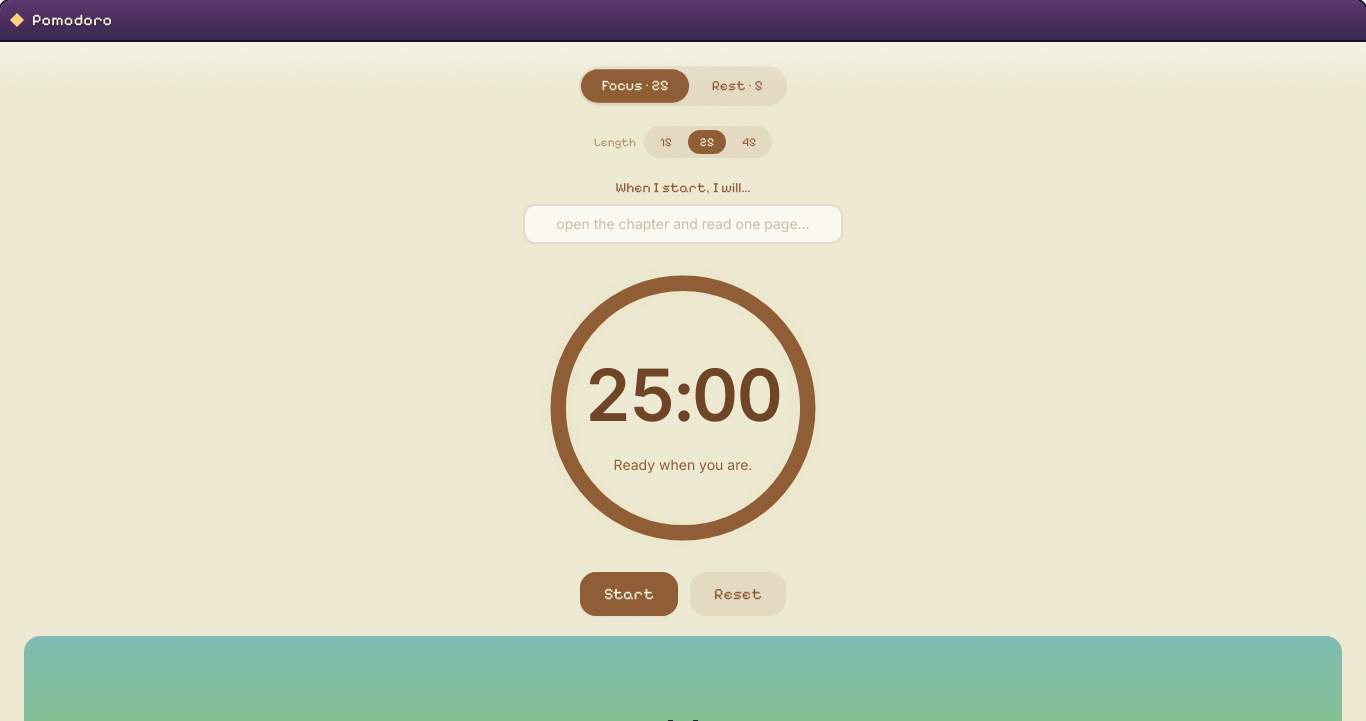
Test: PomodoroTimer (timestamp-based countdown) › counts down from a wall-clock deadline once started
Click the button "Start".
click(629, 594)  # box [580,572,678,616]
Wait 60000 ms
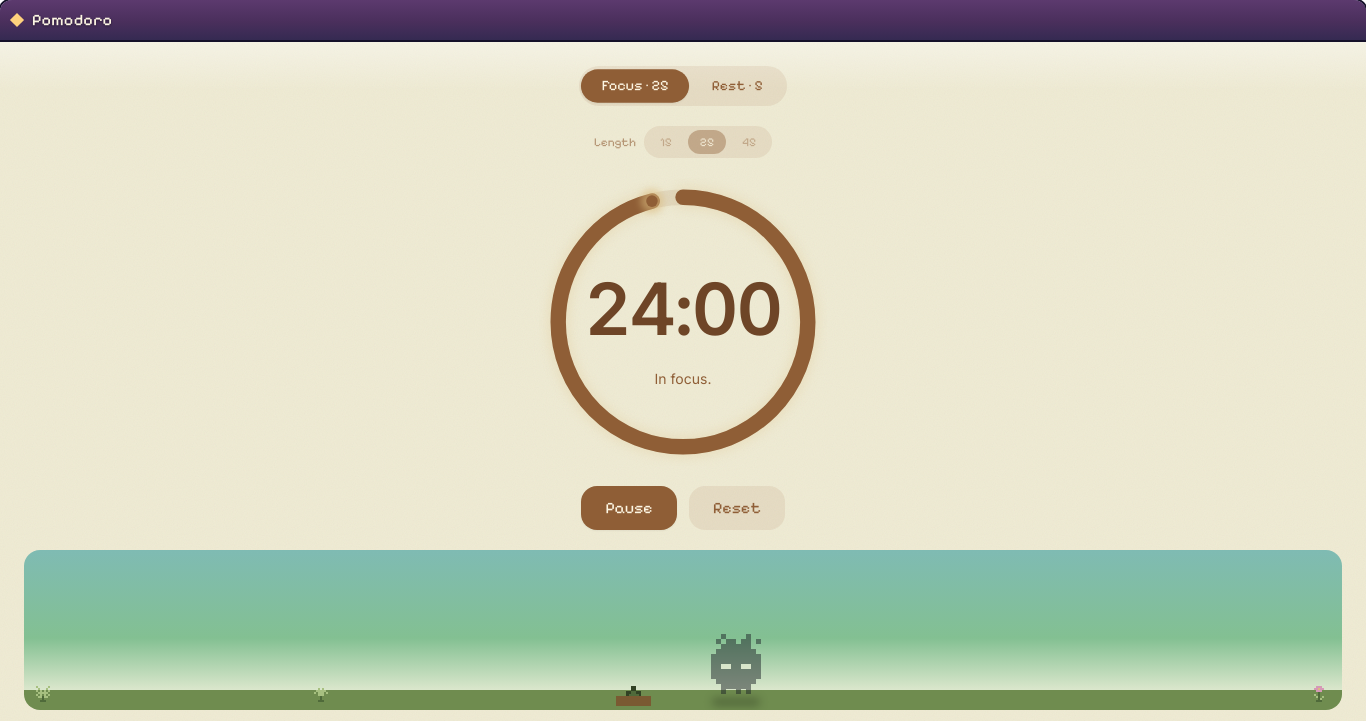
expect the text "In focus." is shown: met, box [655,369,711,389]
expect the text "24:00" is shown: met, box [585,255,781,363]
